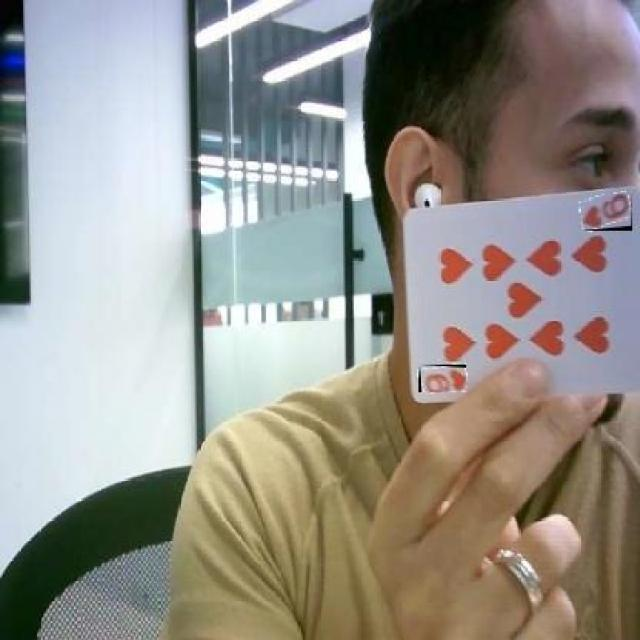9H: (580, 194, 632, 231), (419, 365, 466, 392)
